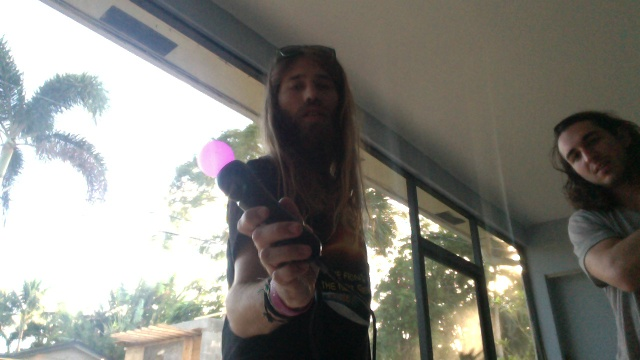wand: (197, 140, 234, 176)
